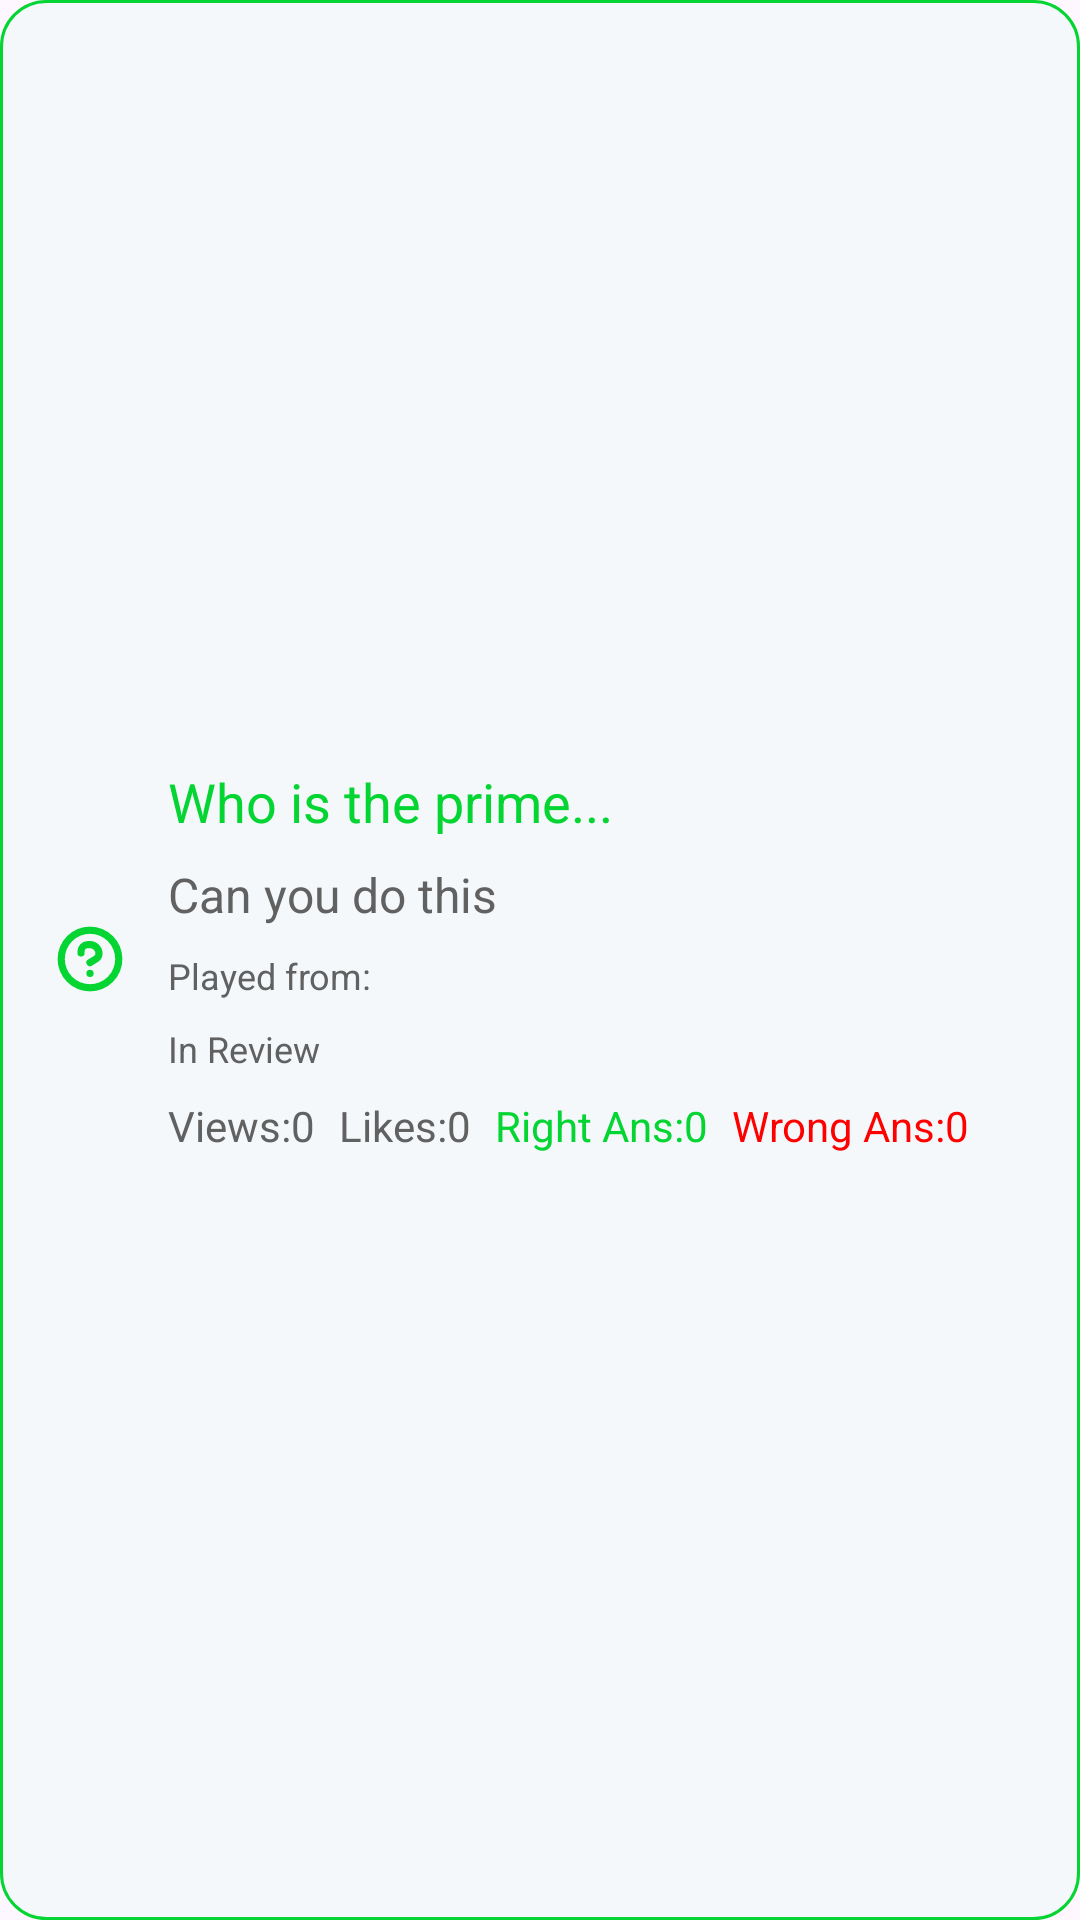

Icons on this 1080*1920 Android screen, each with the point to tap as (x,y):
question circle: (90,959)
